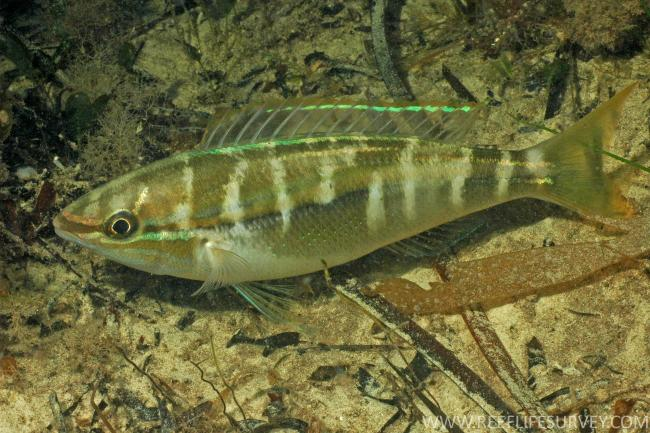fish: (52, 83, 639, 323)
